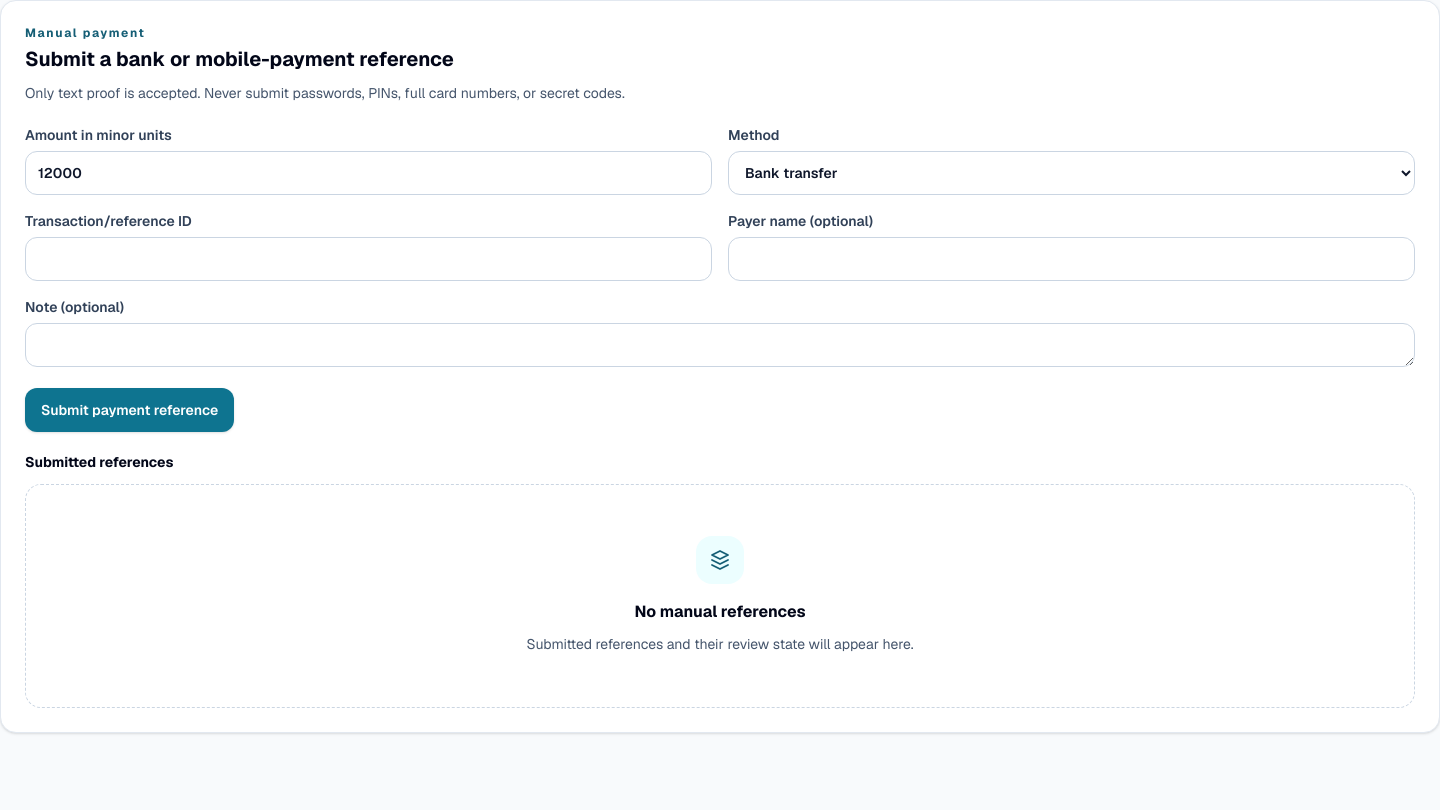
Scenario: manual payment interfaces › submits structured customer proof without a file field
The width and height of the screenshot is (1440, 810).
expect the heading "Submit a bank or mobile-payment reference" is shown: met, box x1=25 y1=46 x2=454 y2=72
In the field labelled "Transaction/reference ID": (368, 259) x1=25 y1=237 x2=712 y2=281, type "NEW-UI-REFERENCE"
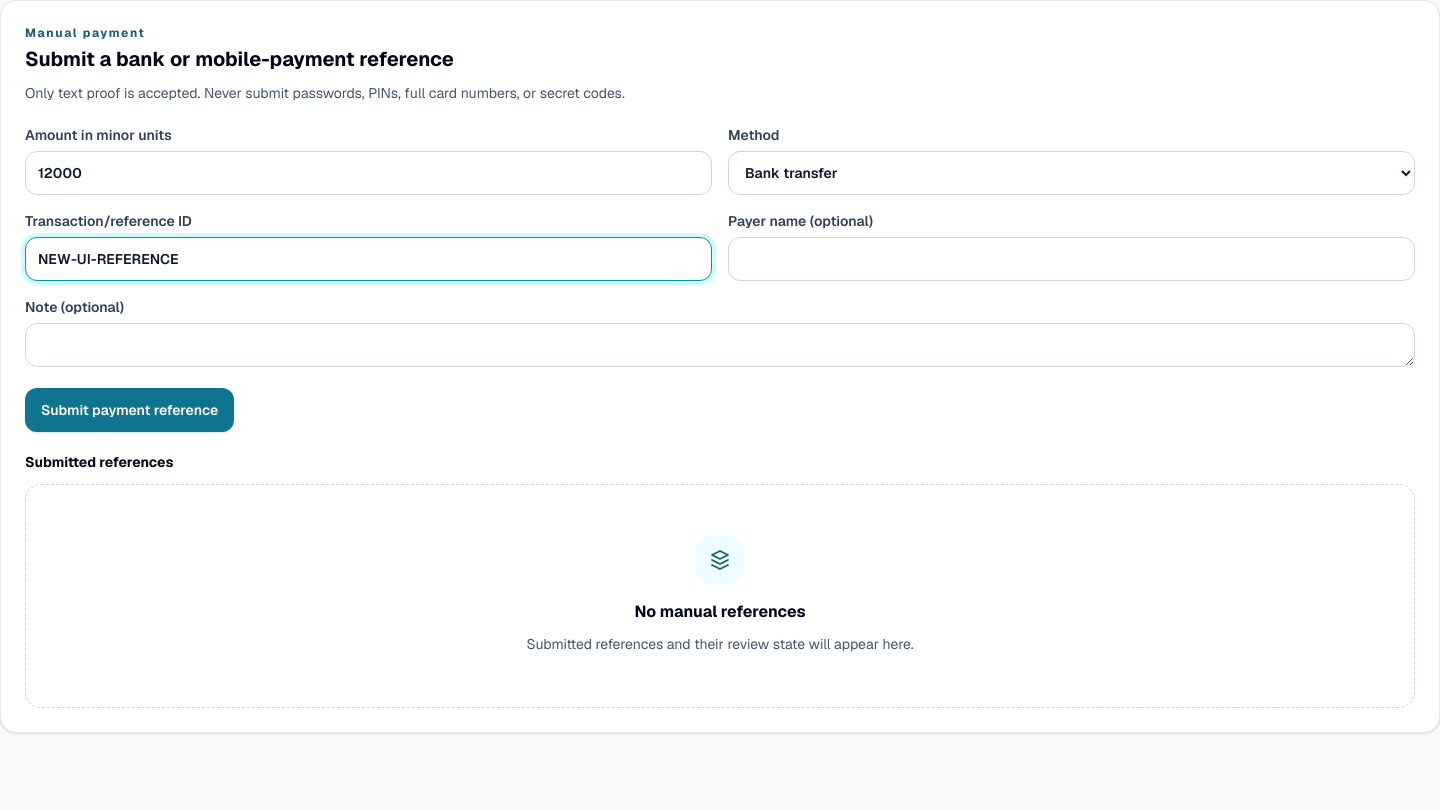
In the field labelled "Payer name (optional)": (1072, 259) x1=728 y1=237 x2=1415 y2=281, type "Manual Payer"
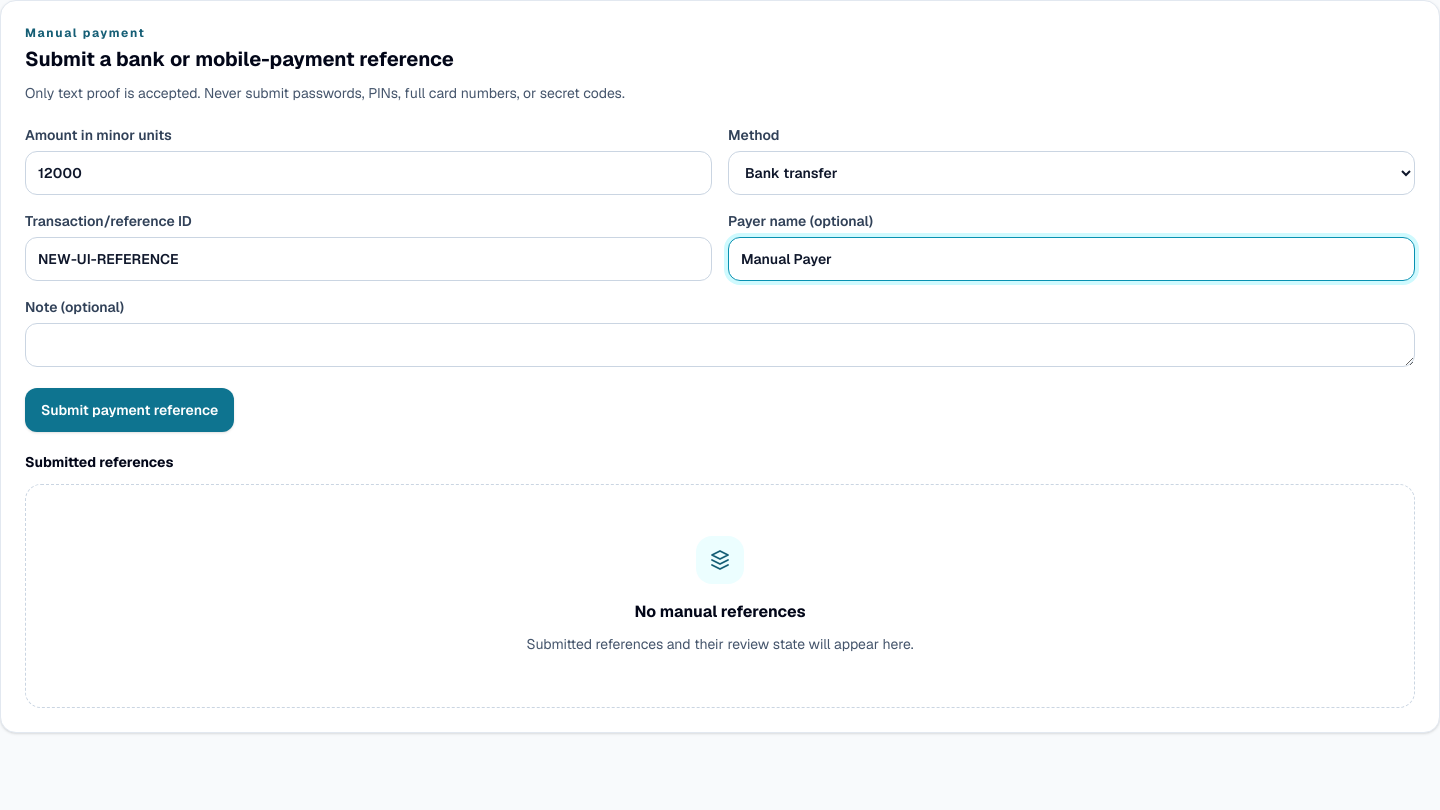
Submit the form named "Submit payment reference", box x1=25 y1=125 x2=1415 y2=432
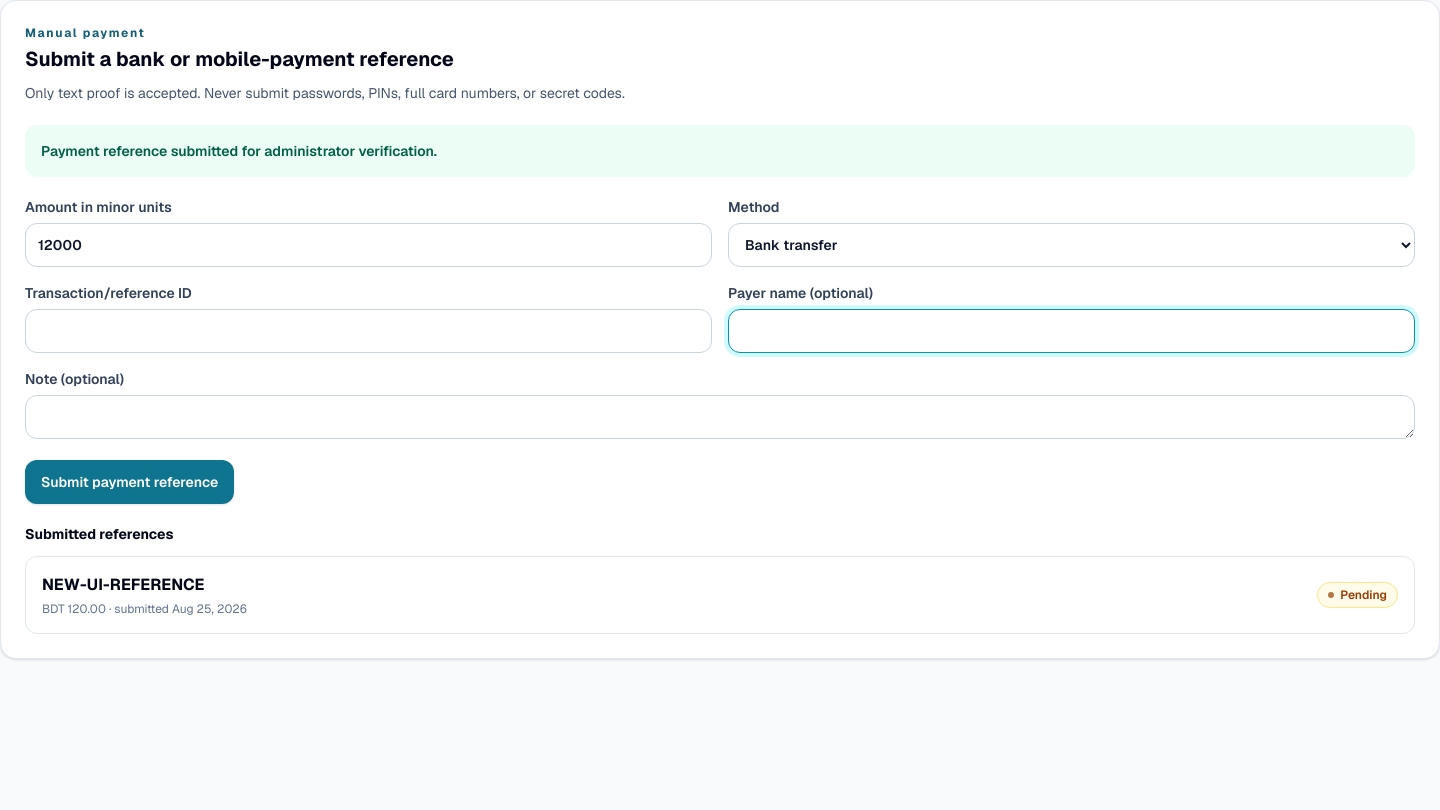
expect the text "Payment reference submitted for administrator verification." is shown: met, box x1=25 y1=125 x2=1415 y2=177
expect the text "NEW-UI-REFERENCE" is shown: met, box x1=42 y1=574 x2=204 y2=595
